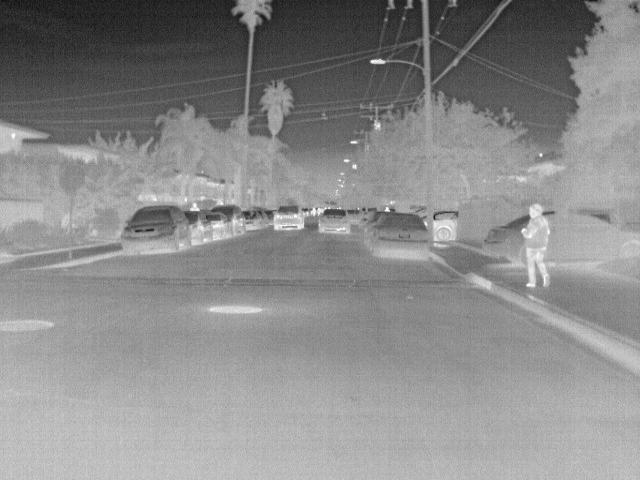car: (544, 210, 639, 265), (116, 204, 191, 256), (370, 211, 433, 261), (482, 216, 531, 265), (181, 211, 211, 246), (210, 206, 244, 236), (318, 208, 353, 236), (270, 205, 307, 231), (431, 210, 458, 242), (202, 213, 229, 240), (240, 210, 267, 232), (342, 208, 362, 225)
person: (520, 203, 551, 290)
